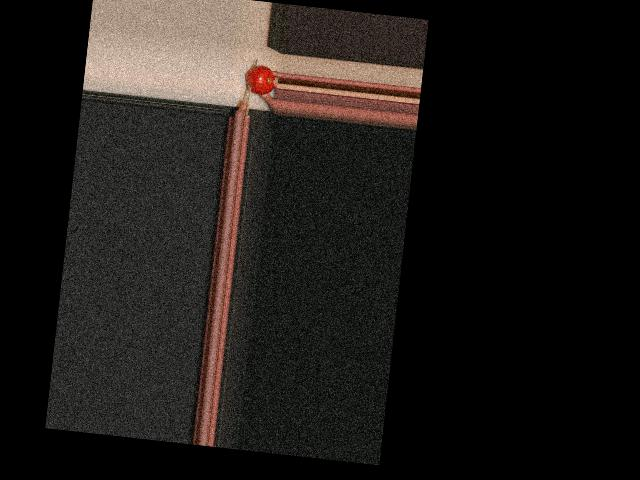tomato: (244, 63, 276, 95)
